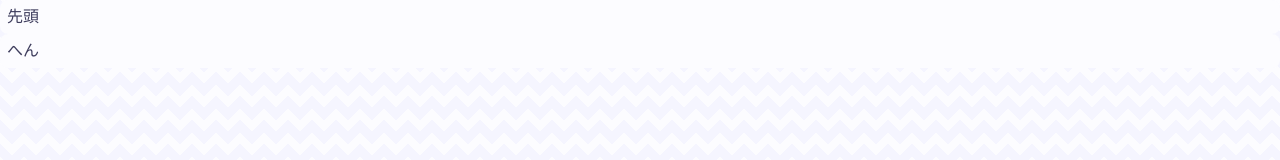
it: EmojiTextArea simultaneous editing › records one local undo step when an IME composition is committed
The width and height of the screenshot is (1280, 160).
Clear the field labelled "へん" at (640, 51), box [0,34,1279,68]
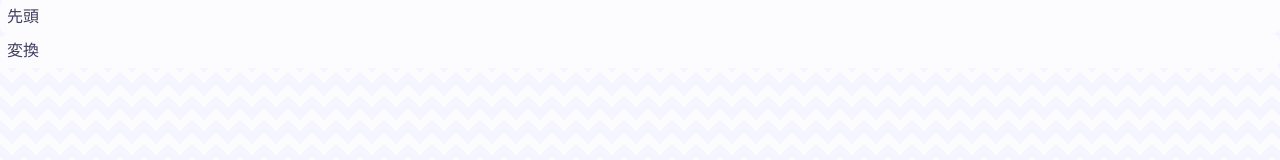
Press z in the field, box [0,34,1279,68]
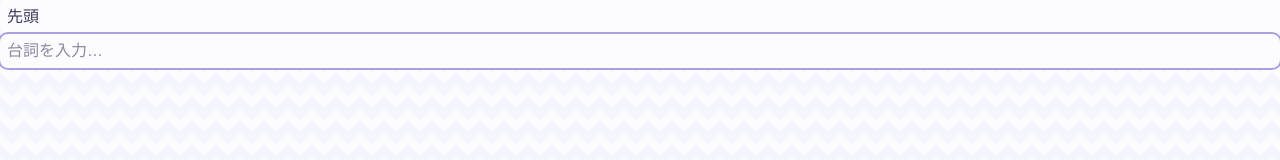
Expected: the 2nd field is empty, [0,34,1279,68]
